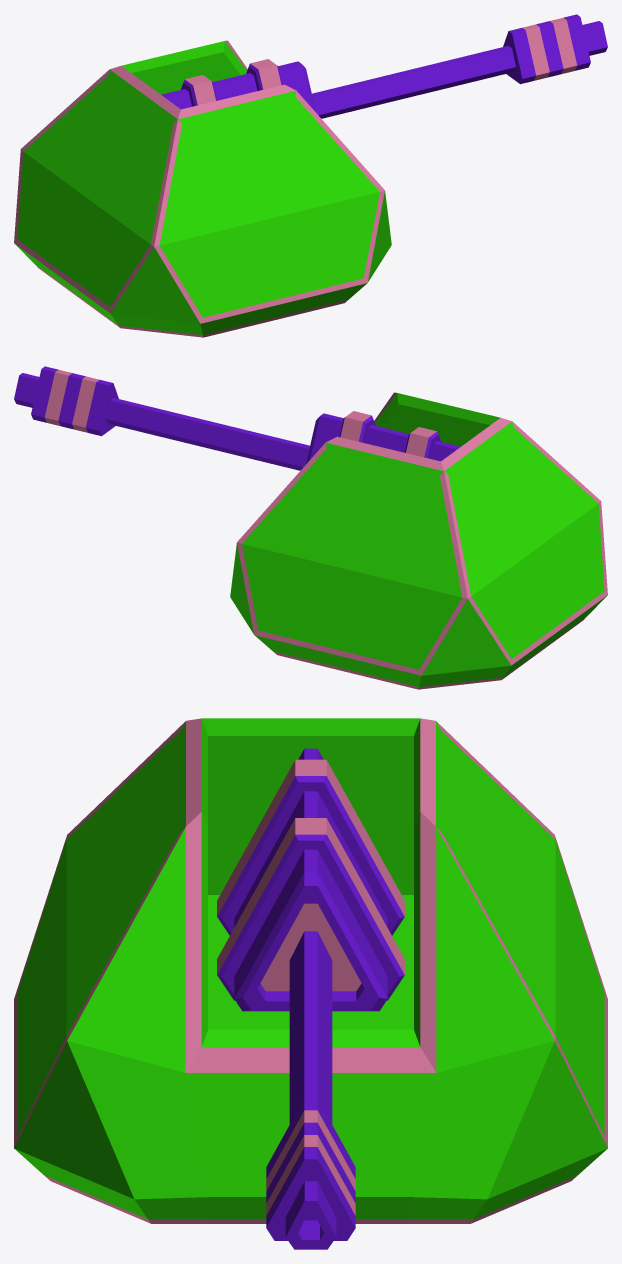
The model's file is SoldierHEAD.fbx.
The picture shows the model from 3 angles, top to bottom: view 1: azimuth 30°, elevation 25°; view 2: azimuth 150°, elevation 25°; view 3: azimuth 270°, elevation 25°; orthographic projection. The views are drawn at different scales.
Parts seen in each view (by area): view 1: Cube.003; view 2: Cube.003; view 3: Cube.003.
Part boxes in pixels (x1,y1,x2,y2): Cube.003: (14, 14, 607, 337); Cube.003: (14, 366, 607, 689); Cube.003: (14, 718, 607, 1249).
Size of the model in its own units: 572 by 196 by 298.
